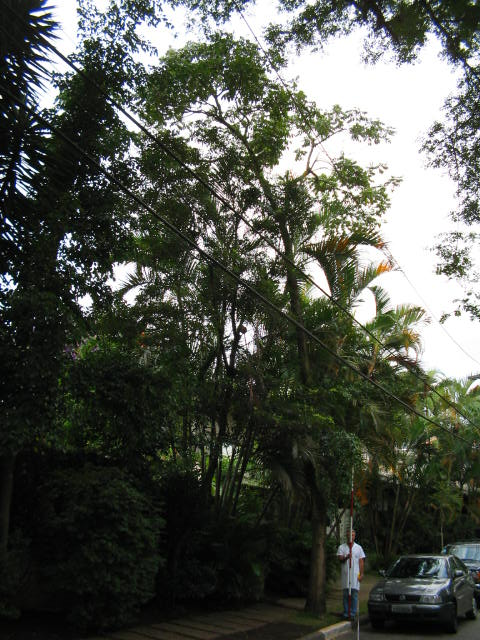stem: (298, 487, 338, 618)
stick: (344, 463, 358, 619)
